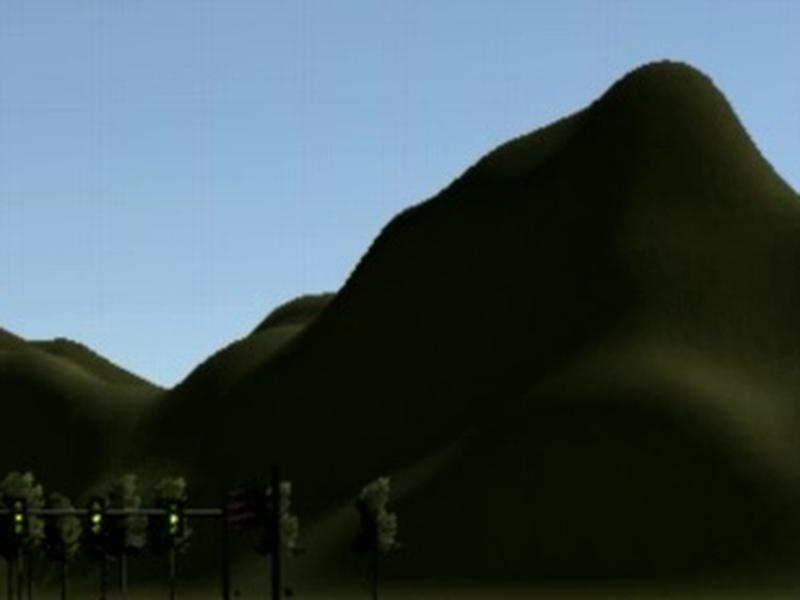Yellow: (165, 498, 185, 537), (10, 496, 27, 540), (87, 498, 104, 538)
